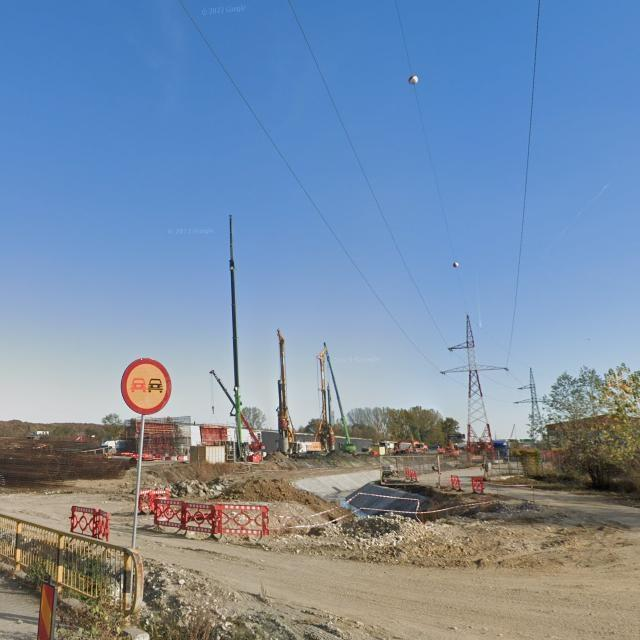forb_overtake: (121, 358, 172, 416)
